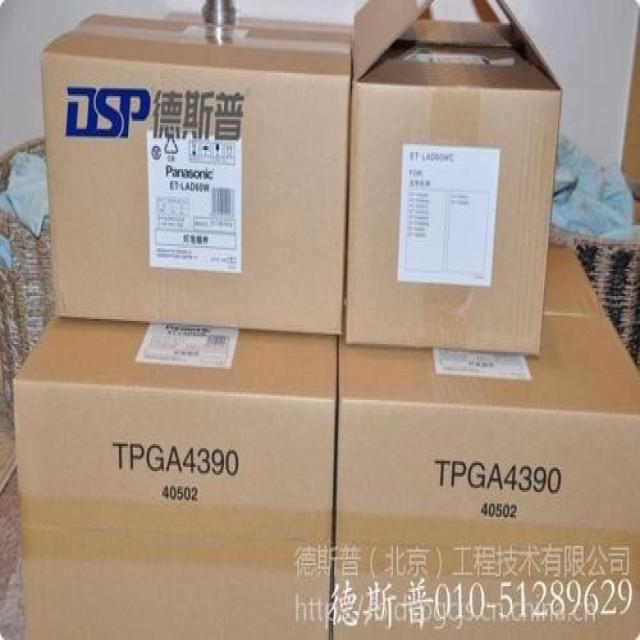box: (333, 248, 640, 640), (12, 319, 339, 640), (40, 12, 351, 336), (343, 0, 563, 356)
